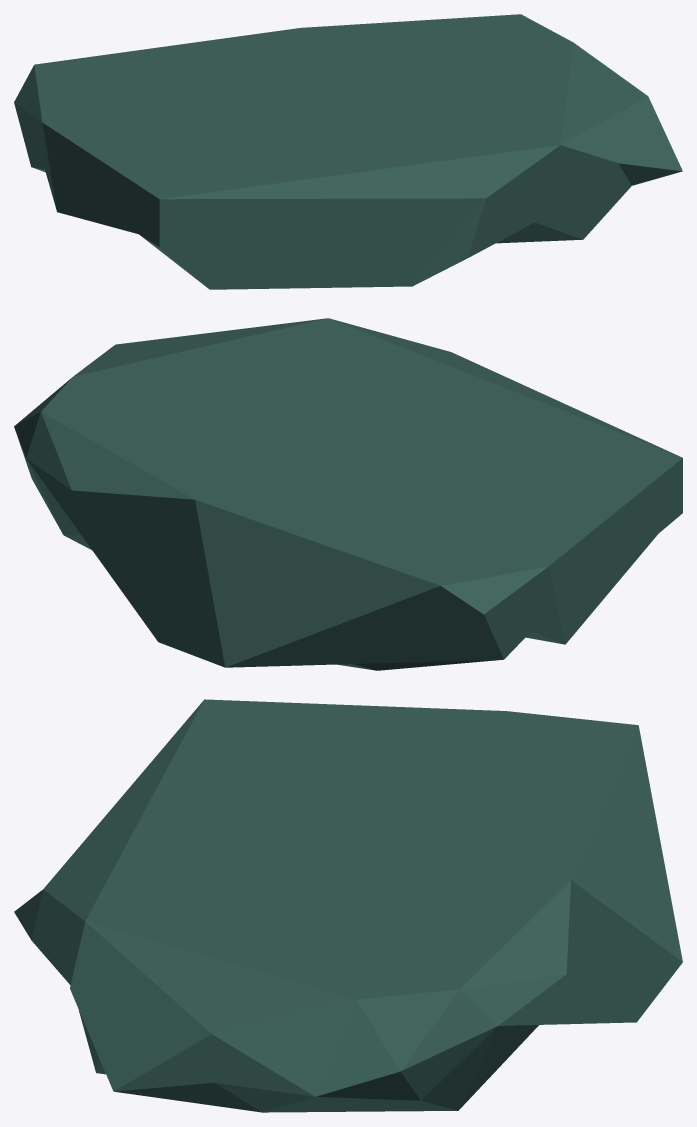
Rendered from Stone_4.fbx.
The picture shows the model from 3 angles, top to bottom: view 1: azimuth 30°, elevation 25°; view 2: azimuth 150°, elevation 25°; view 3: azimuth 270°, elevation 25°; orthographic projection. The views are drawn at different scales.
Visible parts, largest first — view 1: Stone 4; view 2: Stone 4; view 3: Stone 4.
Boxes of the visible parts, <box> form: Stone 4: <box>14,14,682,289</box>; Stone 4: <box>14,318,682,670</box>; Stone 4: <box>14,699,682,1112</box>.
Size of the model in its own units: 6290 by 1365 by 5475.
